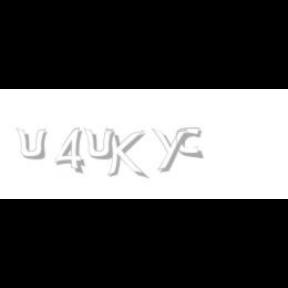4: (54, 128, 86, 174)
K: (105, 128, 145, 180)
c: (176, 128, 206, 160)
u: (15, 128, 50, 160), (83, 128, 118, 160)
y: (152, 128, 192, 172)
